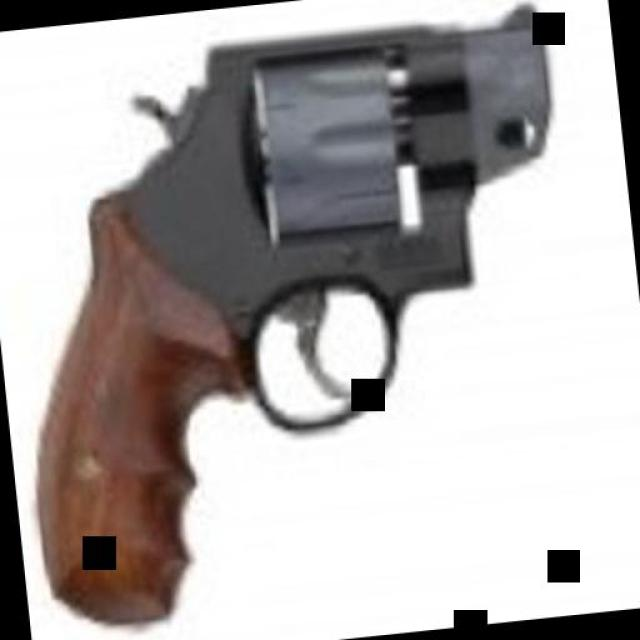gun: (0, 0, 594, 625)
